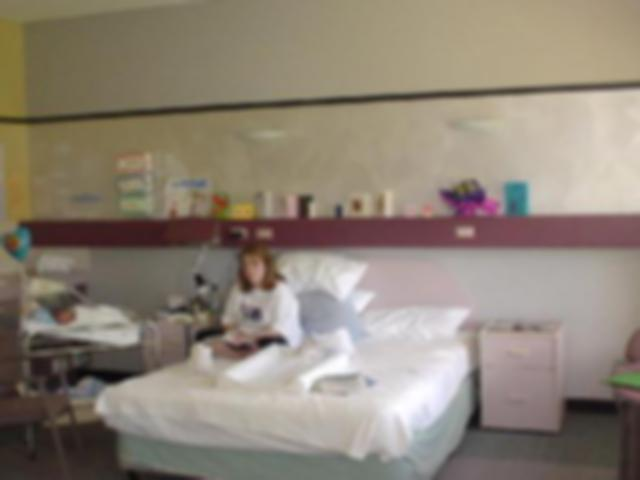Lavamanos: (0, 247, 9, 303)
